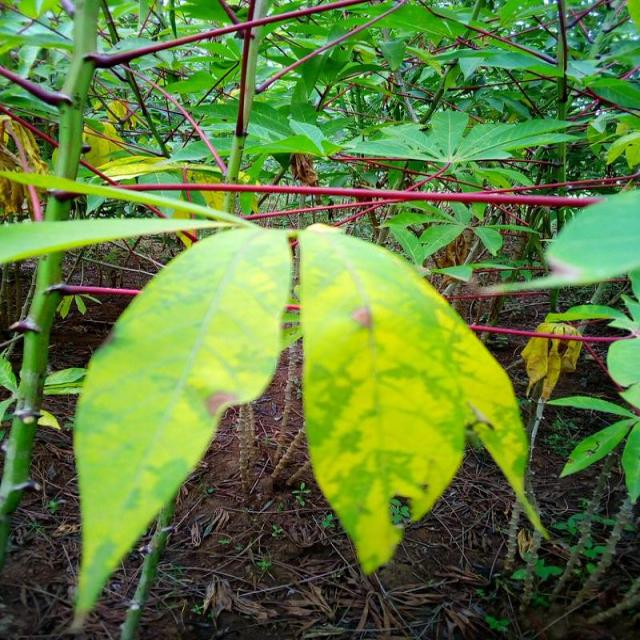cassava leaf: (70, 223, 292, 630), (297, 221, 549, 576)
